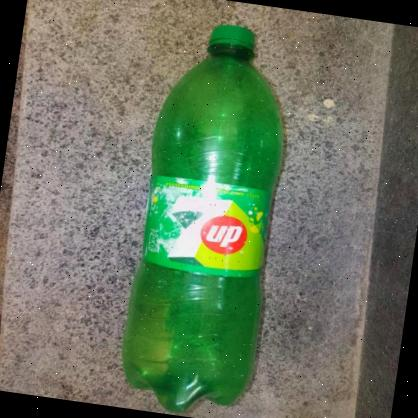bottle: (103, 4, 321, 418)
cap: (198, 18, 272, 62)
label: (133, 168, 285, 289)
